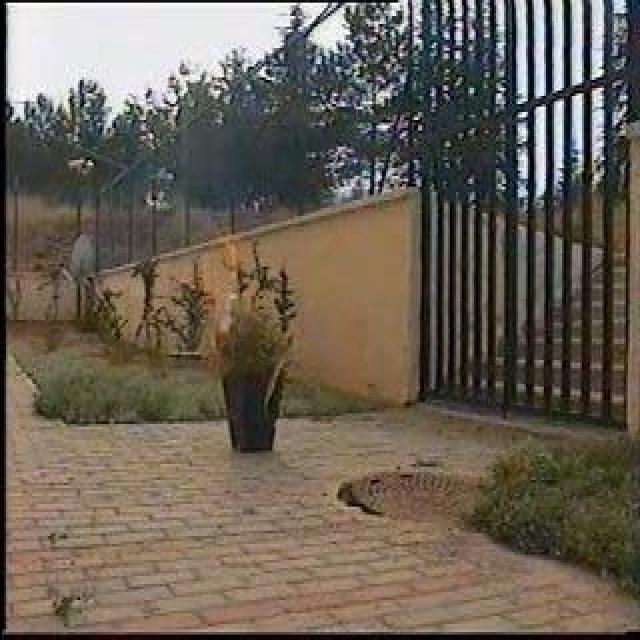fire: (215, 224, 241, 323)
smoke: (193, 171, 249, 221)
